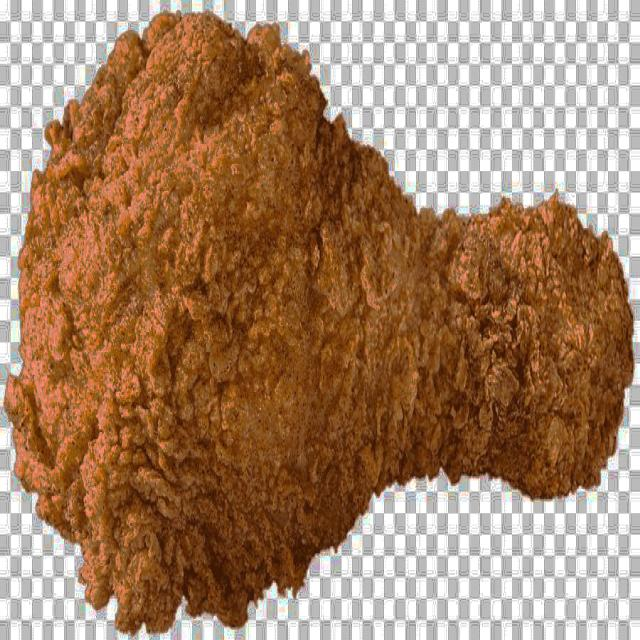fried_chicken: (5, 13, 634, 634)
